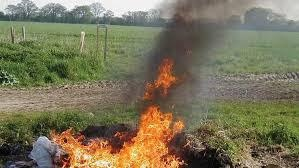fire: (42, 79, 189, 168)
